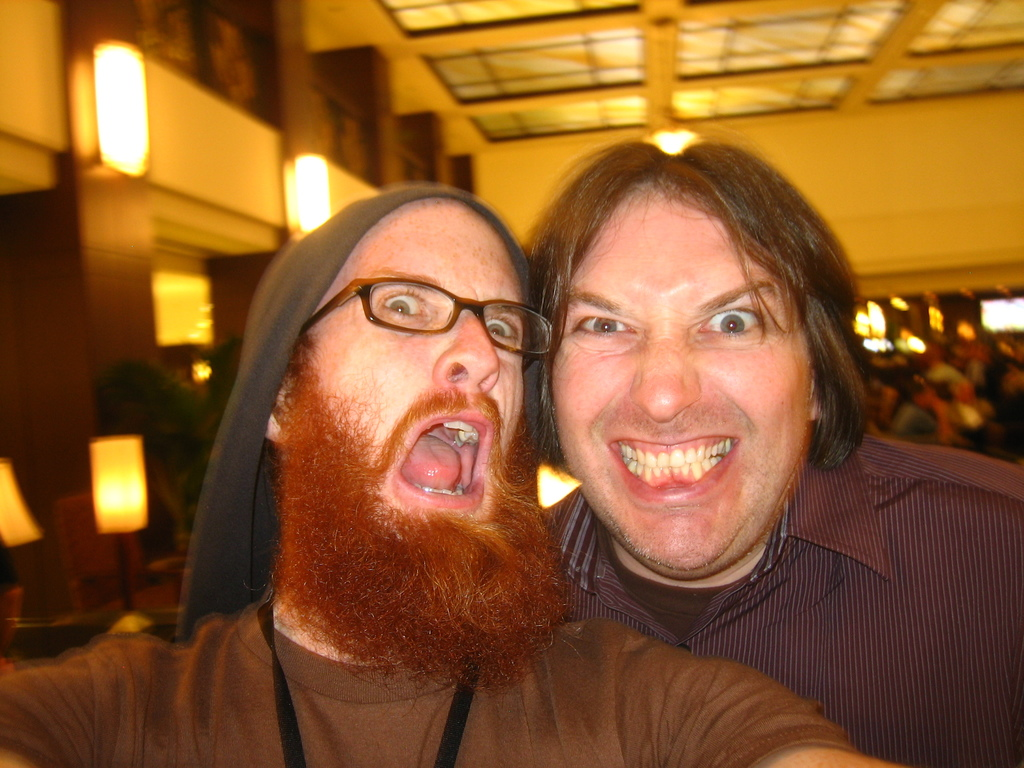Human-face: (549, 188, 811, 579), (303, 195, 524, 539)
